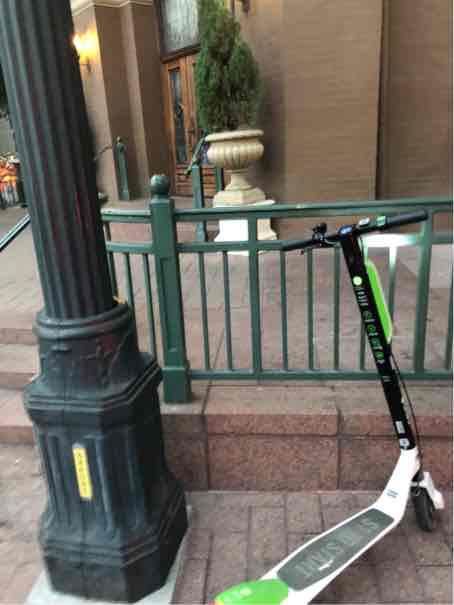scooter: (188, 198, 453, 600)
